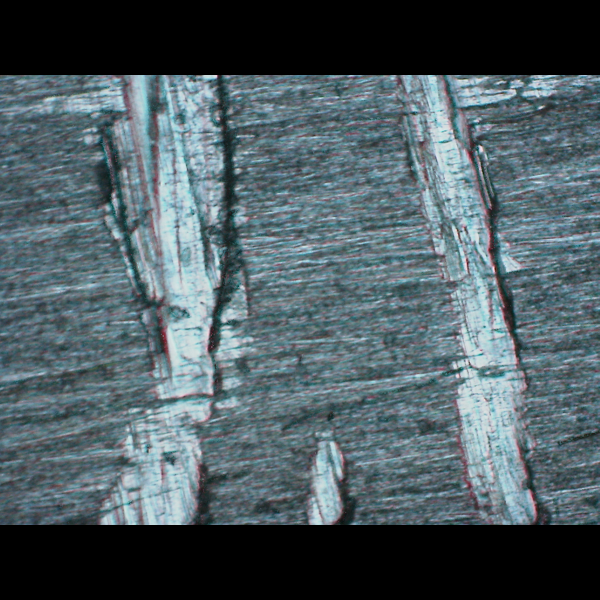d: (376, 75, 557, 523), (94, 75, 238, 525), (292, 421, 366, 525)
